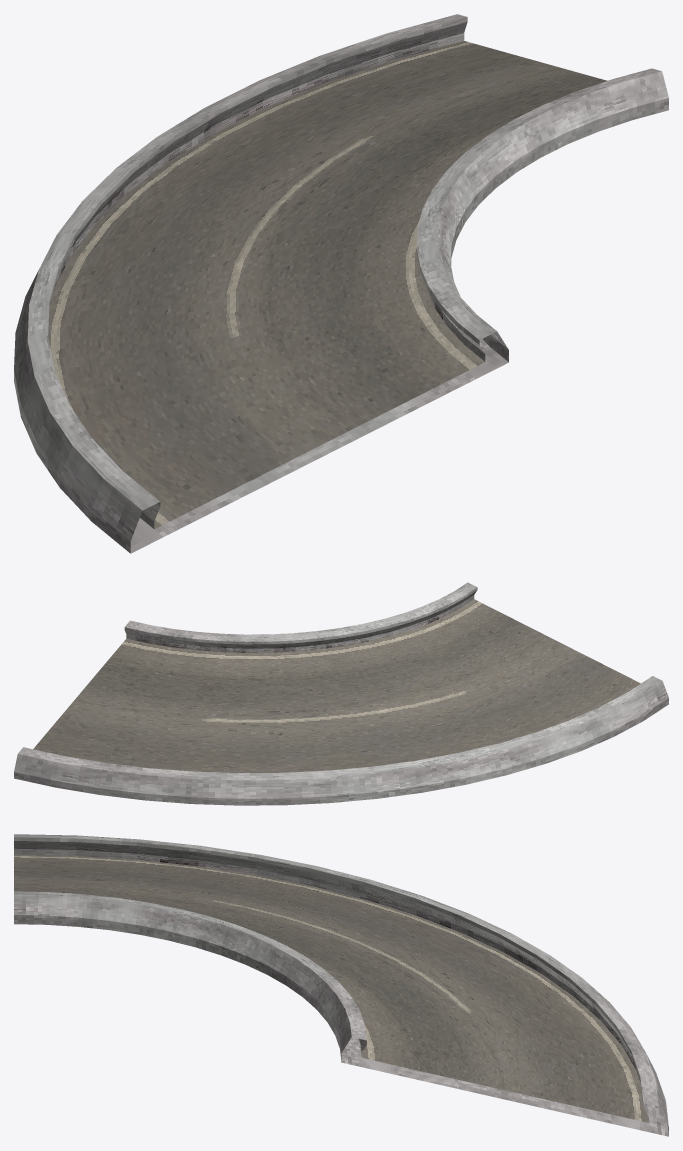
Rendered from road-Turn-HalfBankedLeft-HalfBankedLeft-Even-Right-Size2.glb.
The picture shows the model from 3 angles, top to bottom: view 1: azimuth 30°, elevation 25°; view 2: azimuth 150°, elevation 25°; view 3: azimuth 270°, elevation 25°; orthographic projection. The views are drawn at different scales.
Parts seen in each view (by area): view 1: road-Turn-HalfBankedLeft-HalfBankedLeft-Even-Right-Size2; view 2: road-Turn-HalfBankedLeft-HalfBankedLeft-Even-Right-Size2; view 3: road-Turn-HalfBankedLeft-HalfBankedLeft-Even-Right-Size2.
Part boxes in pixels (<box>): road-Turn-HalfBankedLeft-HalfBankedLeft-Even-Right-Size2: <box>14,14,668,553</box>; road-Turn-HalfBankedLeft-HalfBankedLeft-Even-Right-Size2: <box>14,582,668,805</box>; road-Turn-HalfBankedLeft-HalfBankedLeft-Even-Right-Size2: <box>14,834,668,1136</box>.
Bounding box in the file's own units: 2 × 0.3359 × 2.
Materials: 2 (2 with a texture image).
